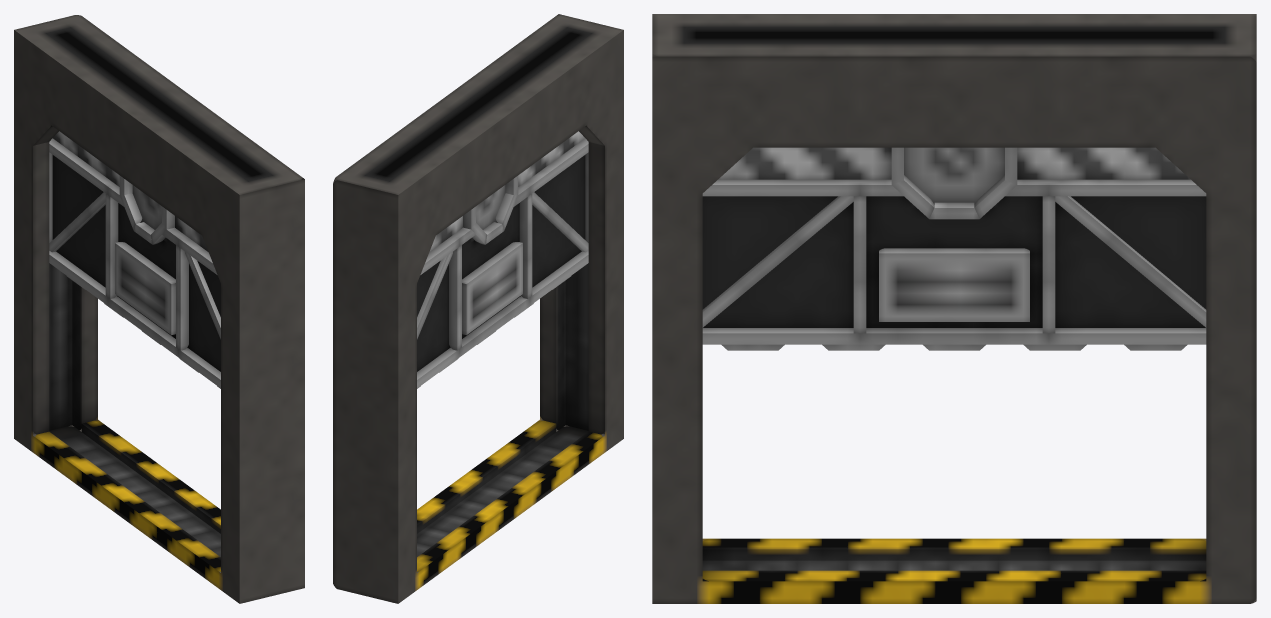
File: qe_containment_88.obj
3 views of the same model, side by side, from view 1: azimuth 30°, elevation 25°; view 2: azimuth 150°, elevation 25°; view 3: azimuth 270°, elevation 25° (orthographic). The views are drawn at different scales.
Parts seen in each view (by area): view 1: Frame, Door; view 2: Frame, Door; view 3: Frame, Door.
Part boxes in pixels (x1,y1,x2,y2): Frame: (14,15,304,603); Door: (49,131,220,388); Frame: (333,14,623,603); Door: (417,131,588,388); Frame: (652,14,1256,603); Door: (702,147,1206,350).
Bounding box in the file's own units: 0.5 × 3 × 3.
